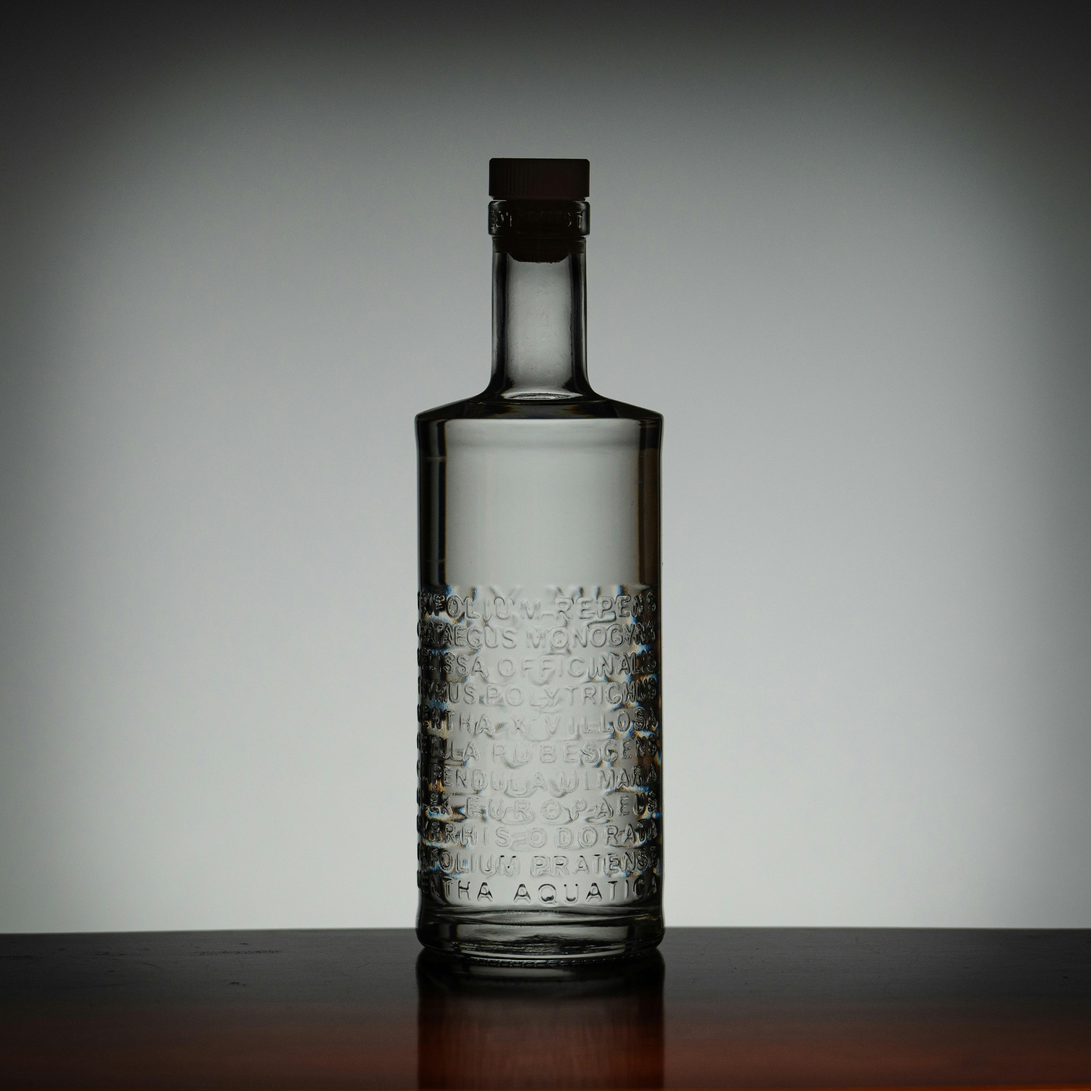Bottle-Detection: (328, 106, 800, 1033)
